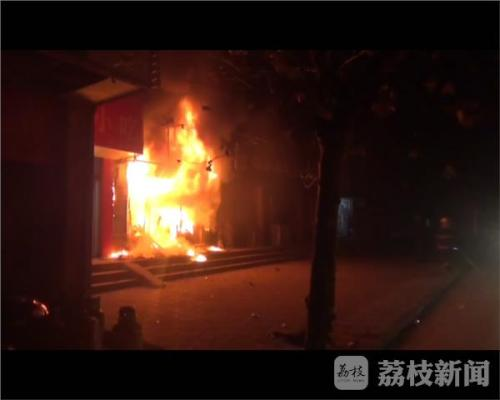fire: (125, 98, 228, 257)
